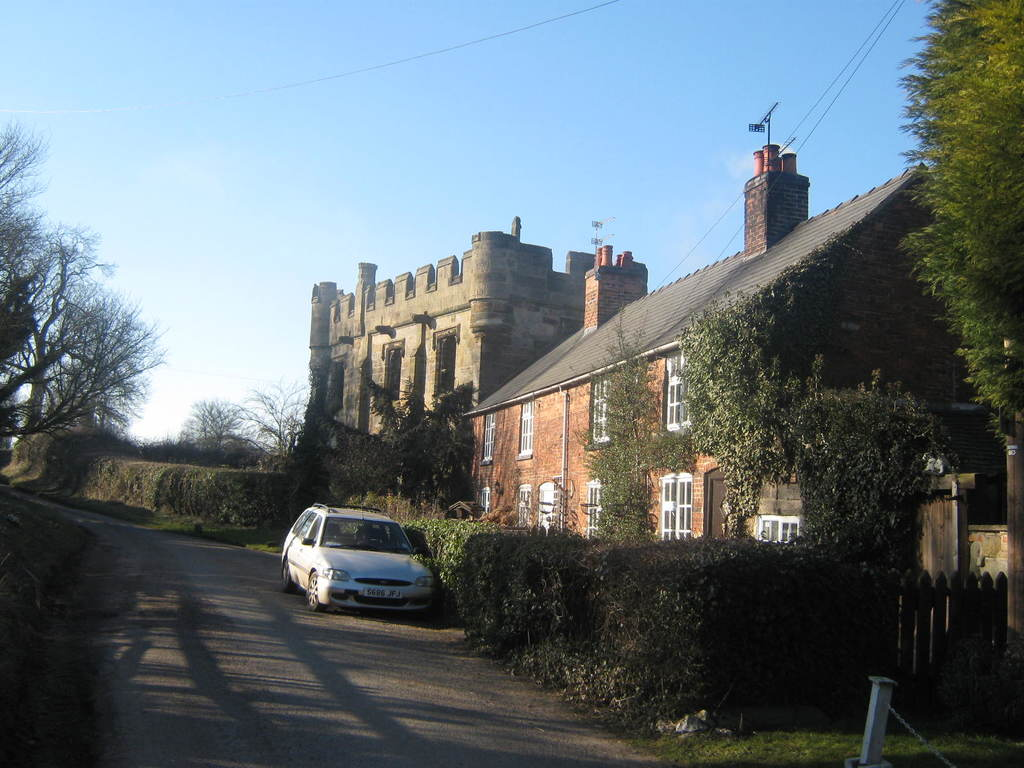Car: (279, 508, 441, 620)
